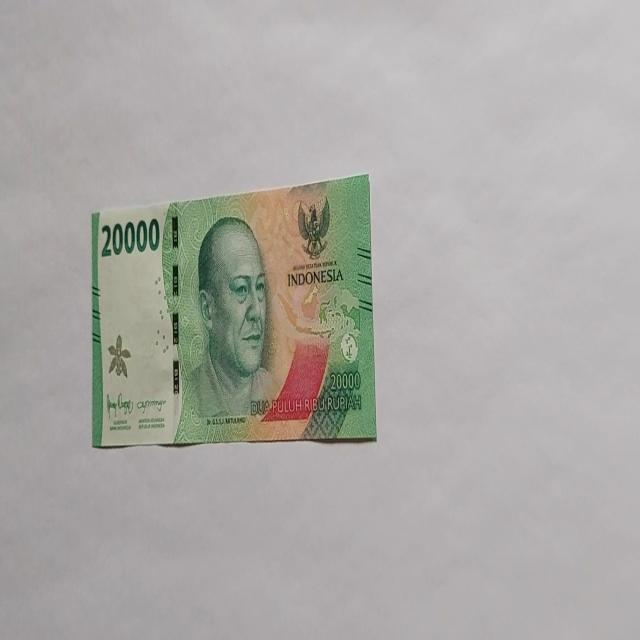dua puluh ribu rupiah: (90, 171, 377, 449), (171, 213, 328, 443)
